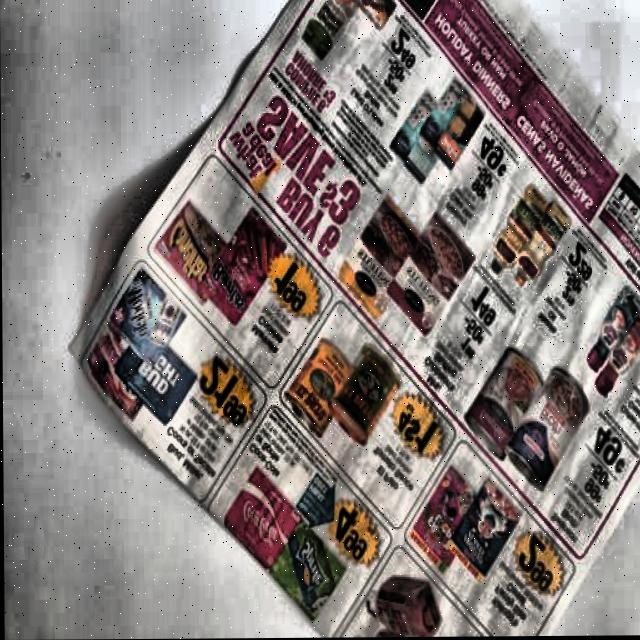paper: (62, 0, 640, 640)
